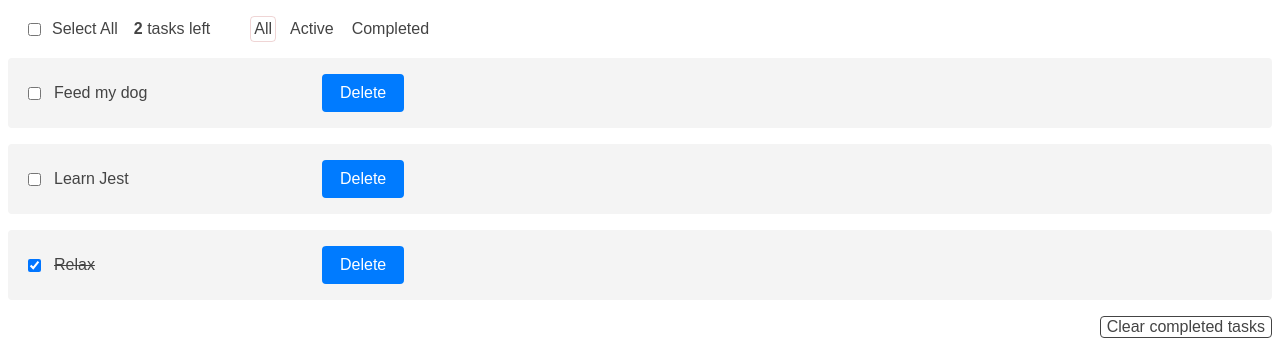
Scenario: Should display only completed tasks
Click the list item "Completed" at x=390, y=29, box [348, 16, 433, 42]
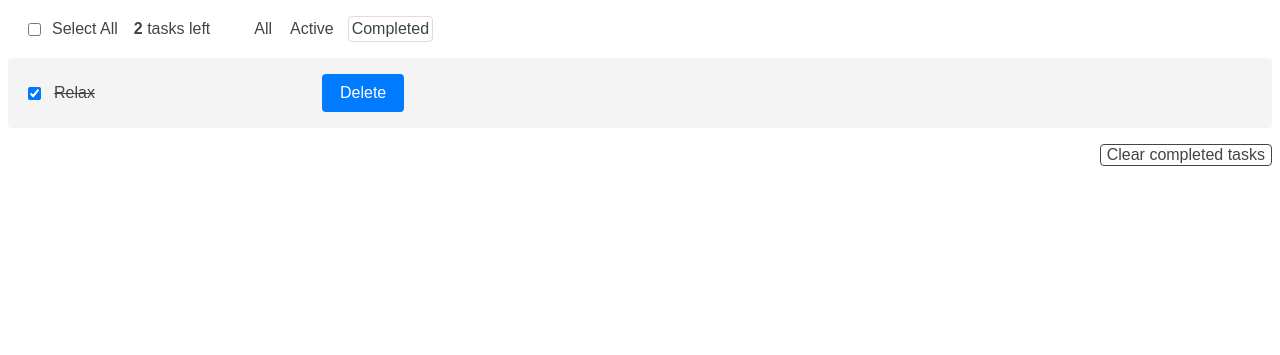
Expected: the number of list items with test id "todo" is 1, [8, 58, 1272, 128]
